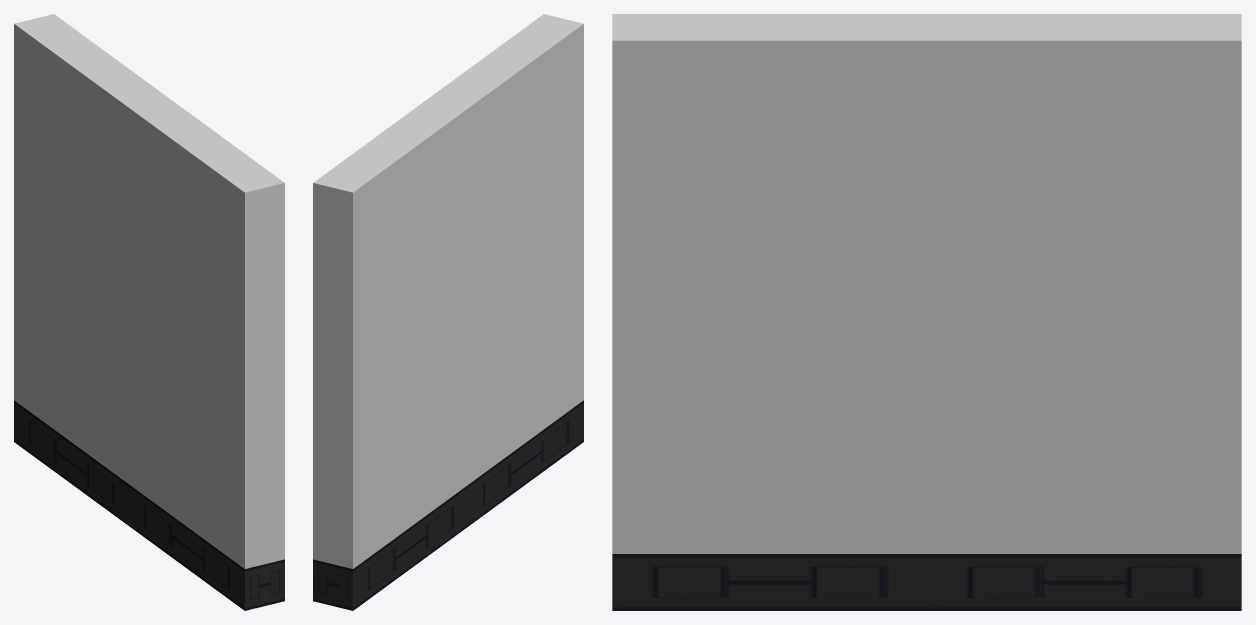
The model's file is tiles_wall_door_top.glb.
The picture shows the model from 3 angles, left to right: view 1: azimuth 30°, elevation 25°; view 2: azimuth 150°, elevation 25°; view 3: azimuth 270°, elevation 25°; orthographic projection. The views are drawn at different scales.
Visible parts, largest first — view 1: Wall_West_Door; view 2: Wall_West_Door; view 3: Wall_West_Door.
Part boxes in pixels (bbox=[...]): Wall_West_Door: bbox=[14, 14, 284, 610]; Wall_West_Door: bbox=[313, 14, 583, 610]; Wall_West_Door: bbox=[612, 14, 1241, 610].
Bounding box in the file's own units: 0.2 × 2 × 2.
2 materials, 1 textured.
